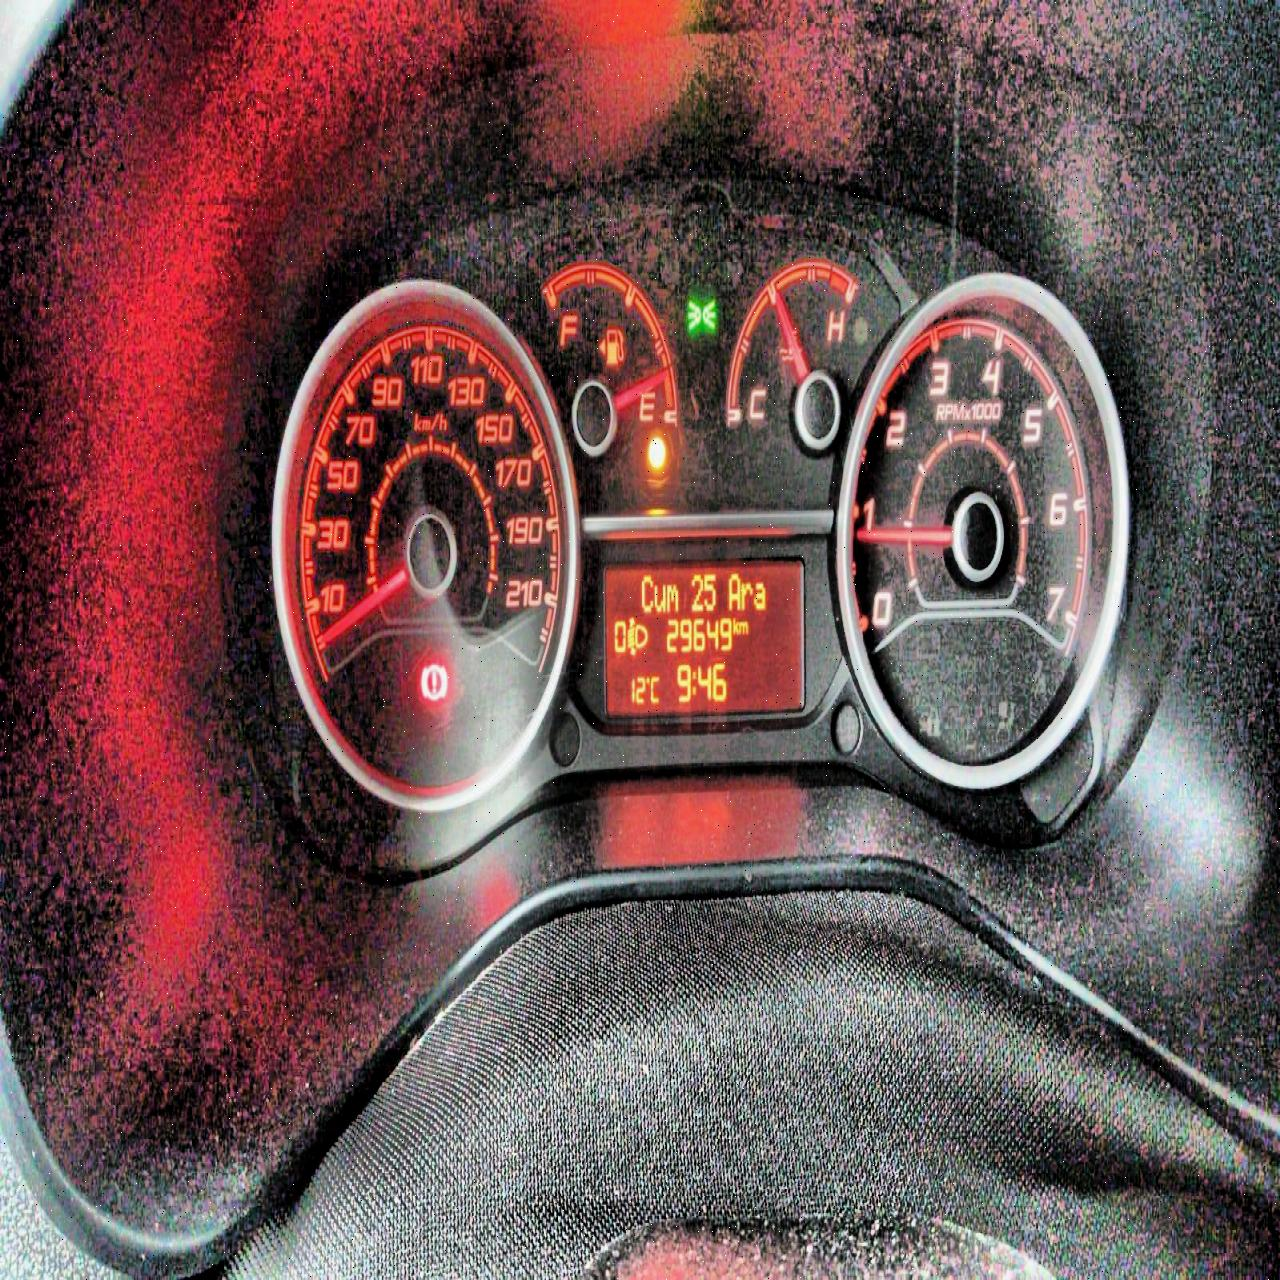0: (612, 617, 627, 652)
1: (629, 675, 635, 704)
2: (688, 571, 703, 612), (665, 617, 678, 652), (635, 675, 645, 704)
4: (696, 662, 712, 701), (706, 613, 720, 651)
5: (703, 571, 717, 612)
6: (710, 661, 728, 702), (693, 615, 706, 652)
9: (675, 661, 690, 703), (719, 614, 733, 652), (679, 615, 692, 654)
X: (640, 572, 654, 614), (727, 571, 741, 611), (666, 581, 679, 615), (754, 578, 767, 611), (740, 578, 751, 612), (653, 580, 665, 612), (649, 673, 660, 704), (690, 668, 696, 696), (738, 619, 748, 635), (731, 615, 738, 635)
odometer: (601, 556, 805, 719)
